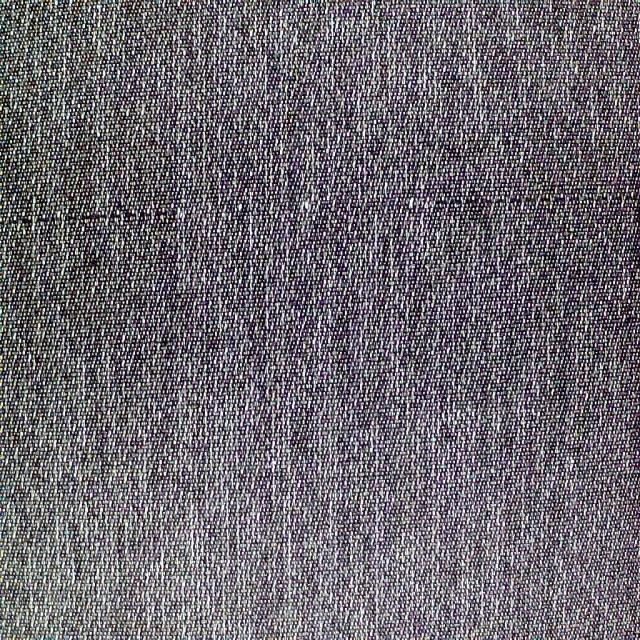pulled_or_thick_thread: (3, 206, 178, 230), (451, 188, 640, 209)
